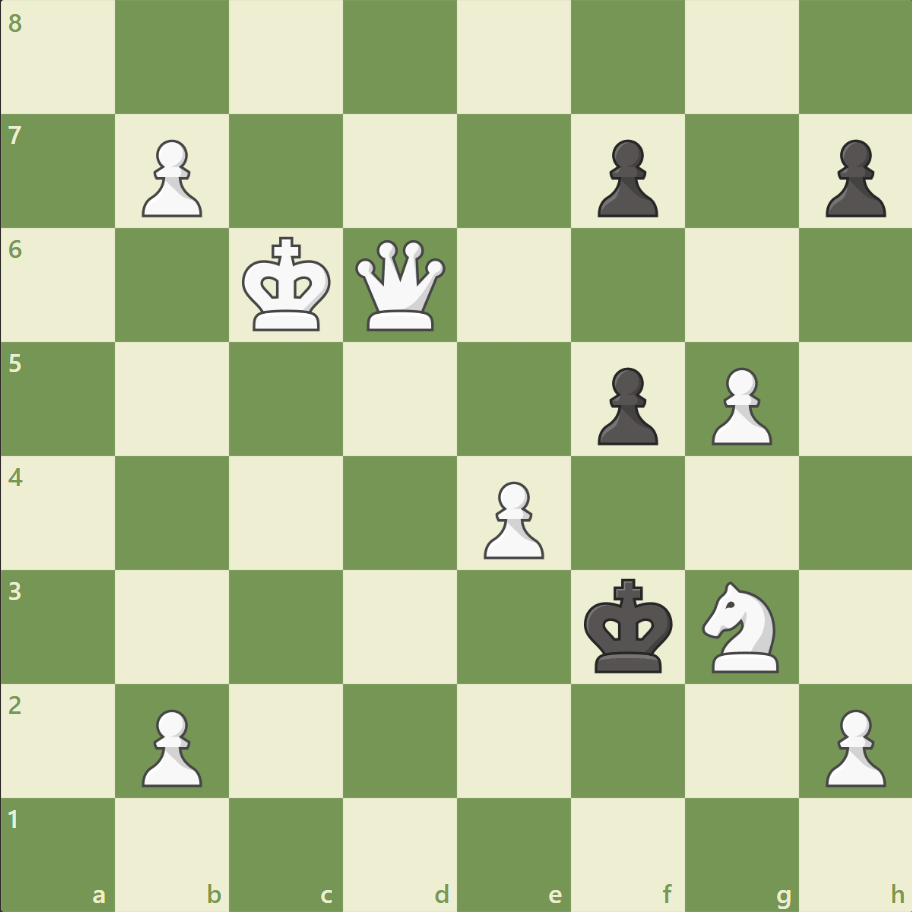K: (238, 231, 338, 339)
N: (692, 575, 789, 677)
P: (133, 132, 208, 223), (701, 359, 776, 450), (474, 473, 549, 564), (133, 700, 208, 791), (815, 700, 889, 791)
Q: (351, 236, 450, 335)
k: (579, 571, 679, 679)
p: (588, 132, 662, 223), (815, 132, 889, 223), (588, 359, 662, 450)
